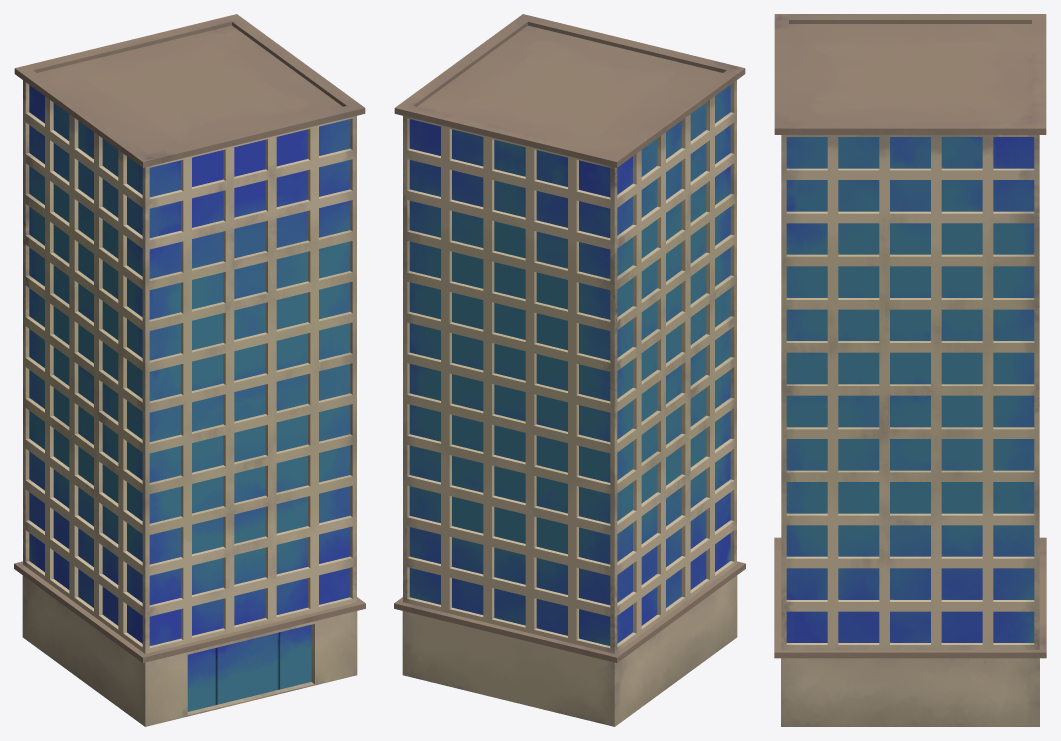
File: SM_ARCH_HighRiseBuilding_v02.fbx
The picture shows the model from 3 angles, left to right: view 1: azimuth 30°, elevation 25°; view 2: azimuth 150°, elevation 25°; view 3: azimuth 270°, elevation 25°; orthographic projection. The views are drawn at different scales.
Parts seen in each view (by area): view 1: m_building_low; view 2: m_building_low; view 3: m_building_low.
Boxes of the visible parts, bbox=[...] form: m_building_low: bbox=[14, 14, 365, 726]; m_building_low: bbox=[394, 14, 745, 726]; m_building_low: bbox=[774, 14, 1046, 726].
Bounding box in the file's own units: 824 × 2005 × 824.
1 material, 1 textured.
